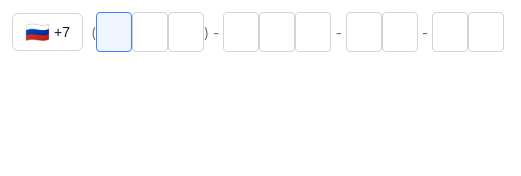
Test: PhoneInput › should change mask when dropdown item is clicked
This screenshot has width=521, height=176.
Step 1. Click the button named "select country" → coordinates (47, 32), box [12,13,83,51]
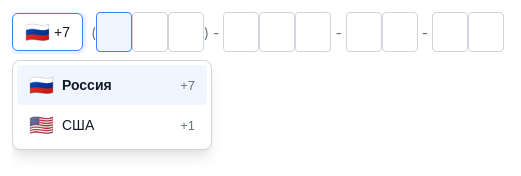
Step 2. Click the option "🇺🇸 США +1" → coordinates (112, 125), box [17,105,207,145]
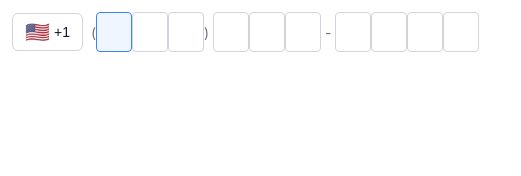
expect the text "+1" is shown: met, box [54,24,70,40]
